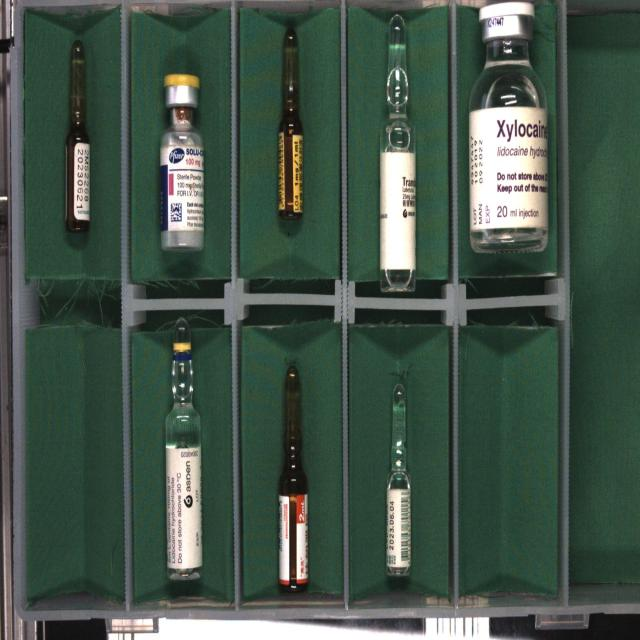Vials: (469, 2, 548, 252), (160, 74, 204, 251)
